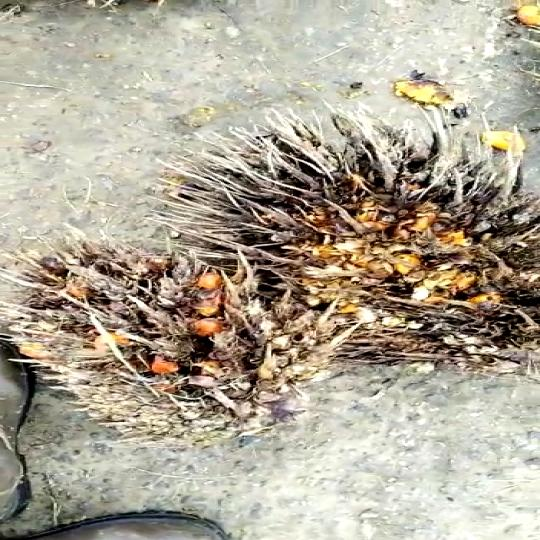terlalu masak: (168, 108, 540, 361), (23, 255, 294, 423)
